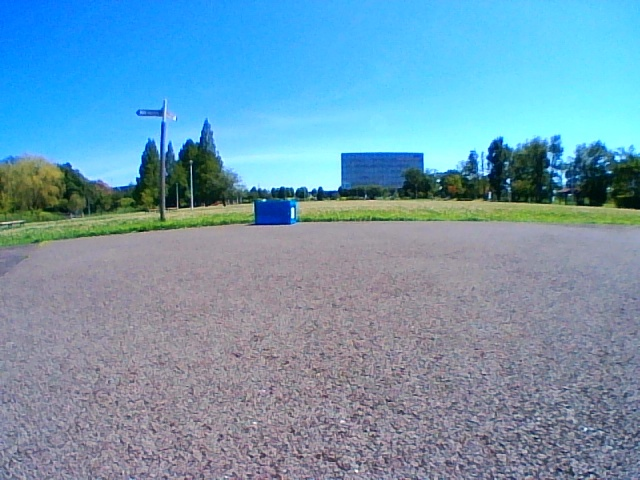blue_box: (255, 201, 295, 225)
tag: (290, 208, 294, 219)
